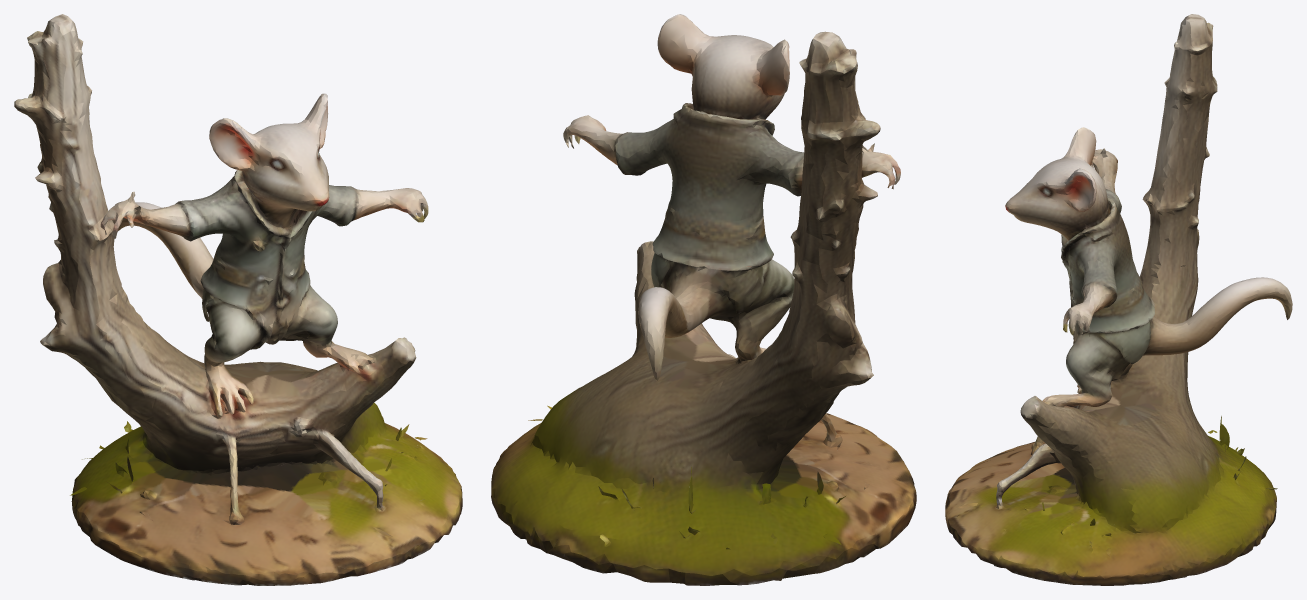
The picture shows the model from 3 angles, left to right: view 1: azimuth 30°, elevation 25°; view 2: azimuth 150°, elevation 25°; view 3: azimuth 270°, elevation 25°; orthographic projection. The views are drawn at different scales.
Parts seen in each view (by area): view 1: 016; view 2: 016; view 3: 016.
Boxes of the visible parts, x1=… form: 016: x1=14, y1=14, x2=462, y2=585; 016: x1=491, y1=14, x2=916, y2=585; 016: x1=945, y1=14, x2=1292, y2=585.
Bounding box in the file's own units: 1.51 × 1.89 × 1.38.
1 material, 1 textured.
